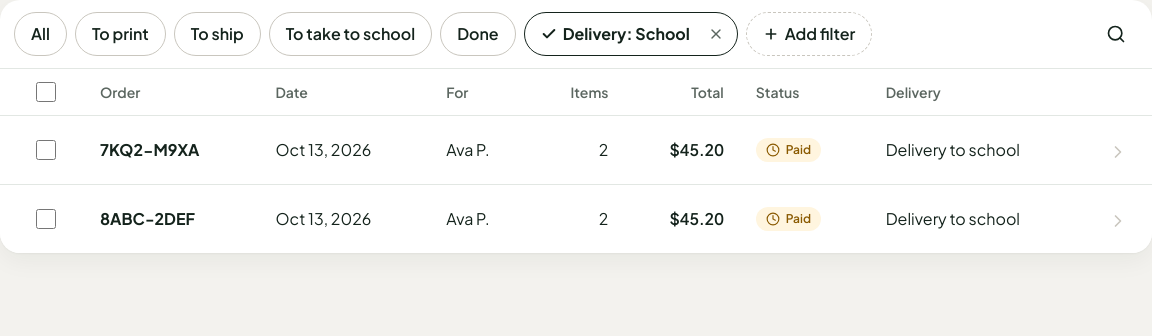
it: the orders list › removes a saved chip with its own button, back to All if it was selected; undone if saving fails
Click the button named "Remove filter: Delivery: School". click: [716, 34]
box: [694,12,738,56]
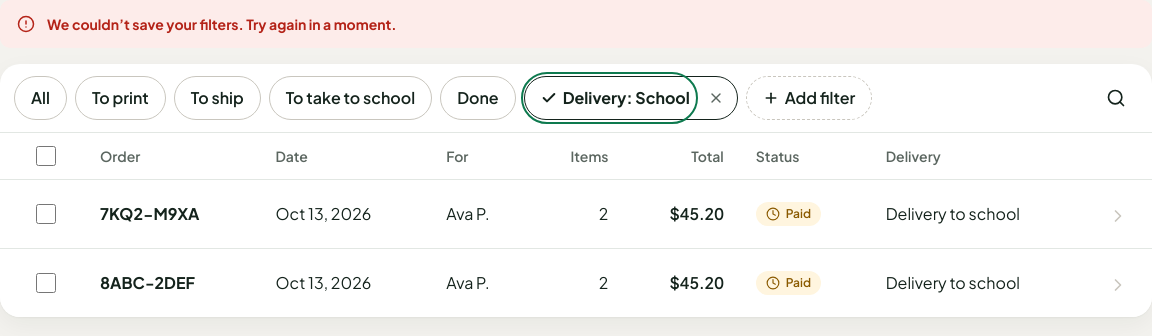
Expected: the text "We couldn’t save your filters. Try again in a moment." is shown, [47,13,397,35]
